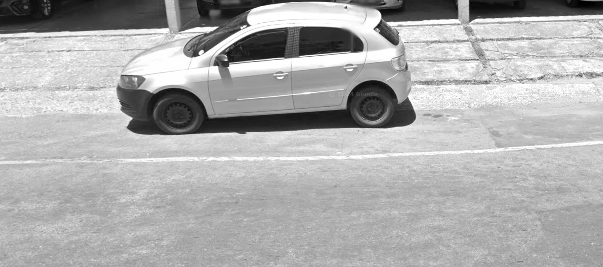car: (113, 1, 422, 136)
